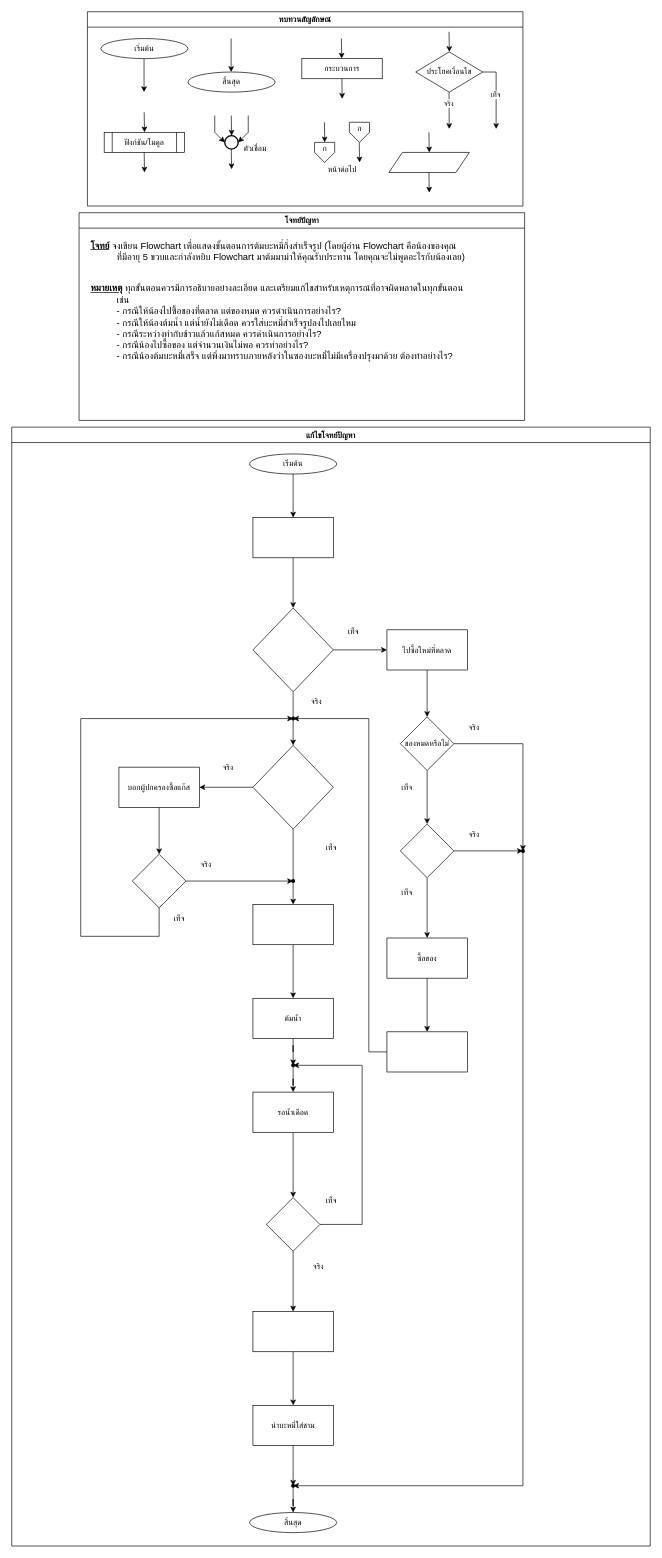
Some shapes in this 662 by 1558 pixel diagram are drawn without their labels. The centre of each missing label's shape, as x and y in pixels:
กลับบ้าน: (426,1051)
ตรวจสอบวัถุดิบและอุปกรณ์: (292,537)
น้ำเดือด: (293,1224)
บะหมี่แถมเครื่องปรุง: (292,649)
ผู้ปกครองซื้อแก๊สยัง: (159,881)
เงินไม่พอ: (427,850)
เปิดแก๊ส: (292,924)
แก๊สหมด: (292,787)
แสดงผล/รับค่า: (428,162)
ใส่บะหมี่ลงไปได้เลย: (292,1331)
